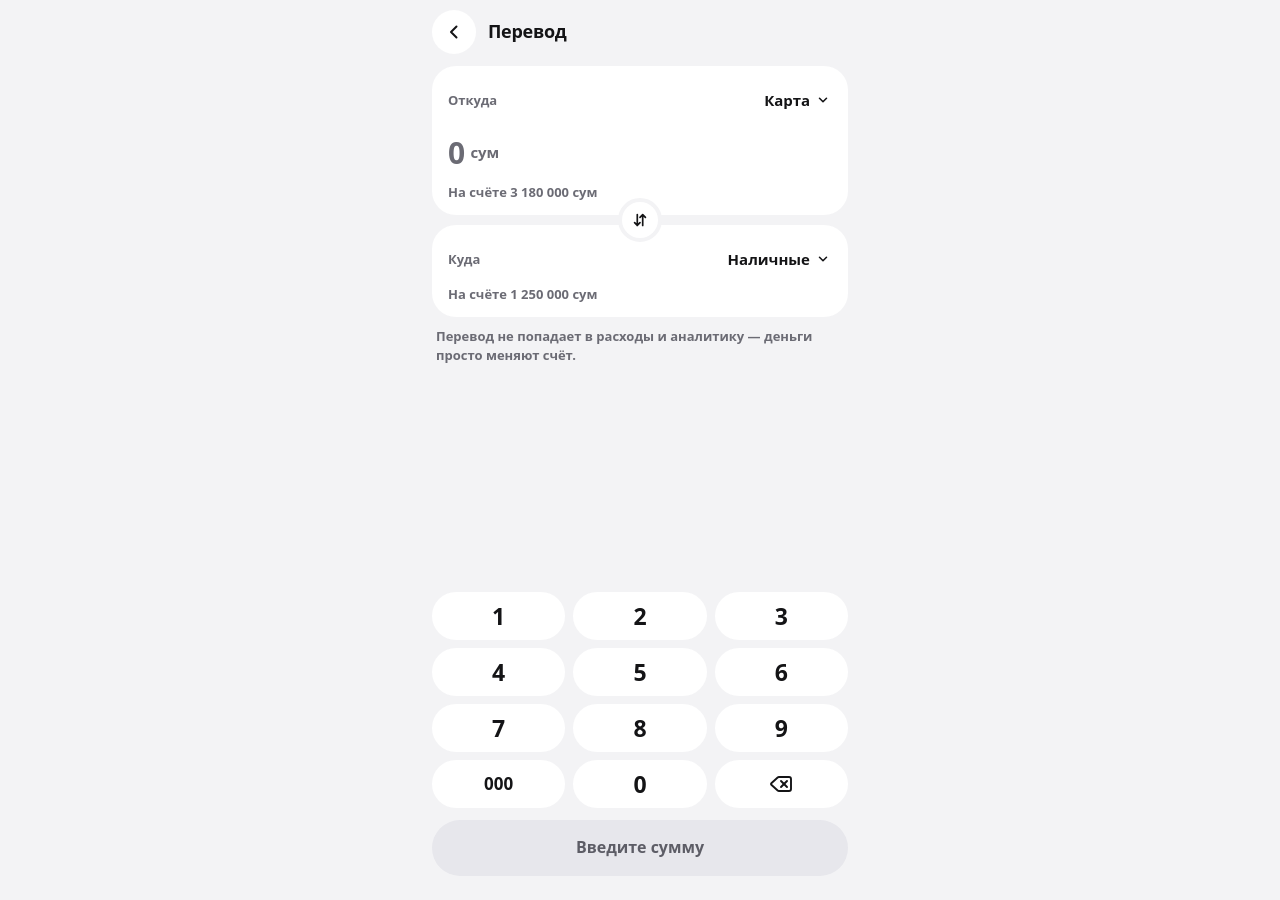
Transfer form › an exchange to dollars shows the empty «Получаю» as «0,00» (FT-141)
The image size is (1280, 900).
Click the button "Наличные". click: (779, 259)
box: [718,237,840,281]
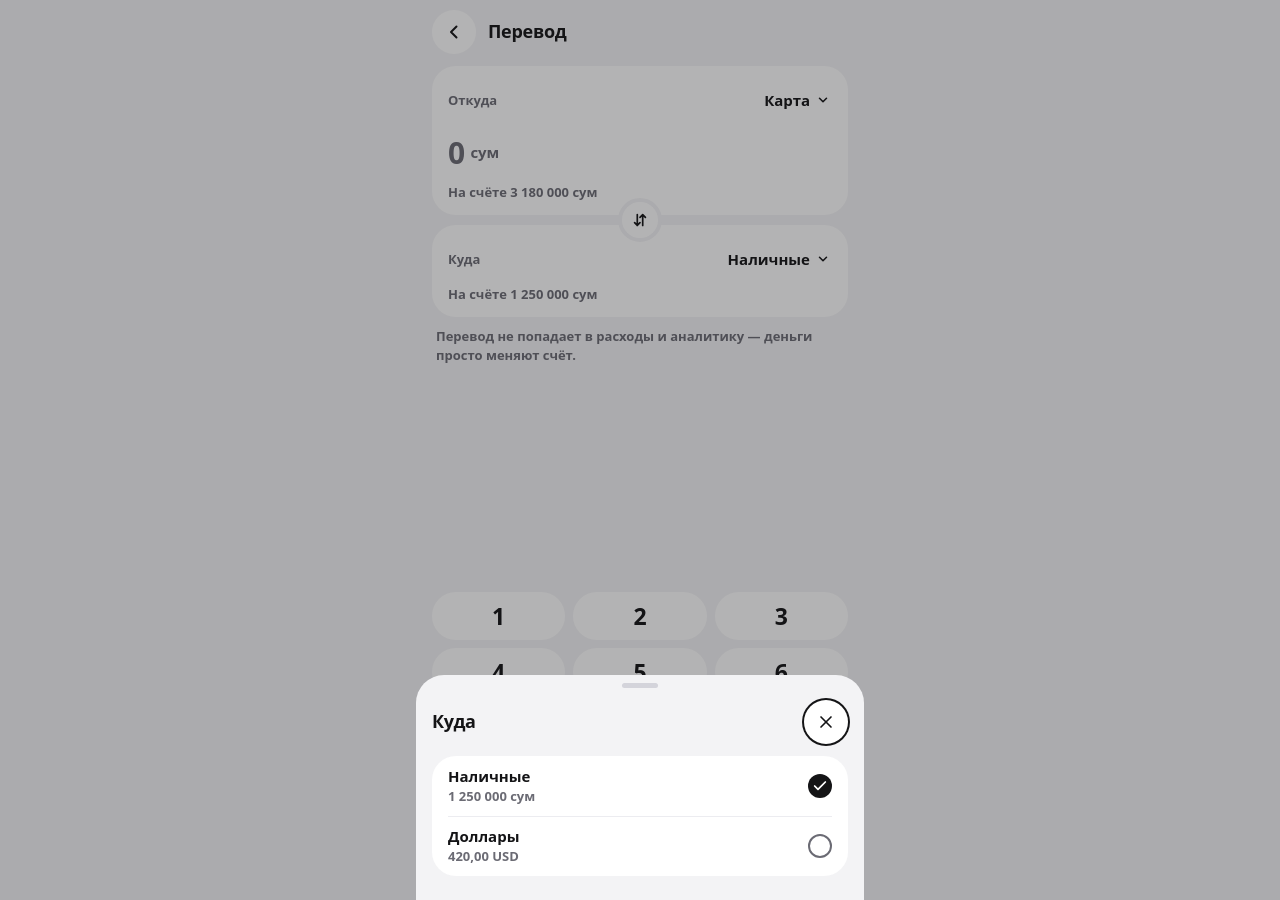
Click the radio button labelled "Доллары 420,00 USD". click: (484, 836)
box: [432,816,848,876]
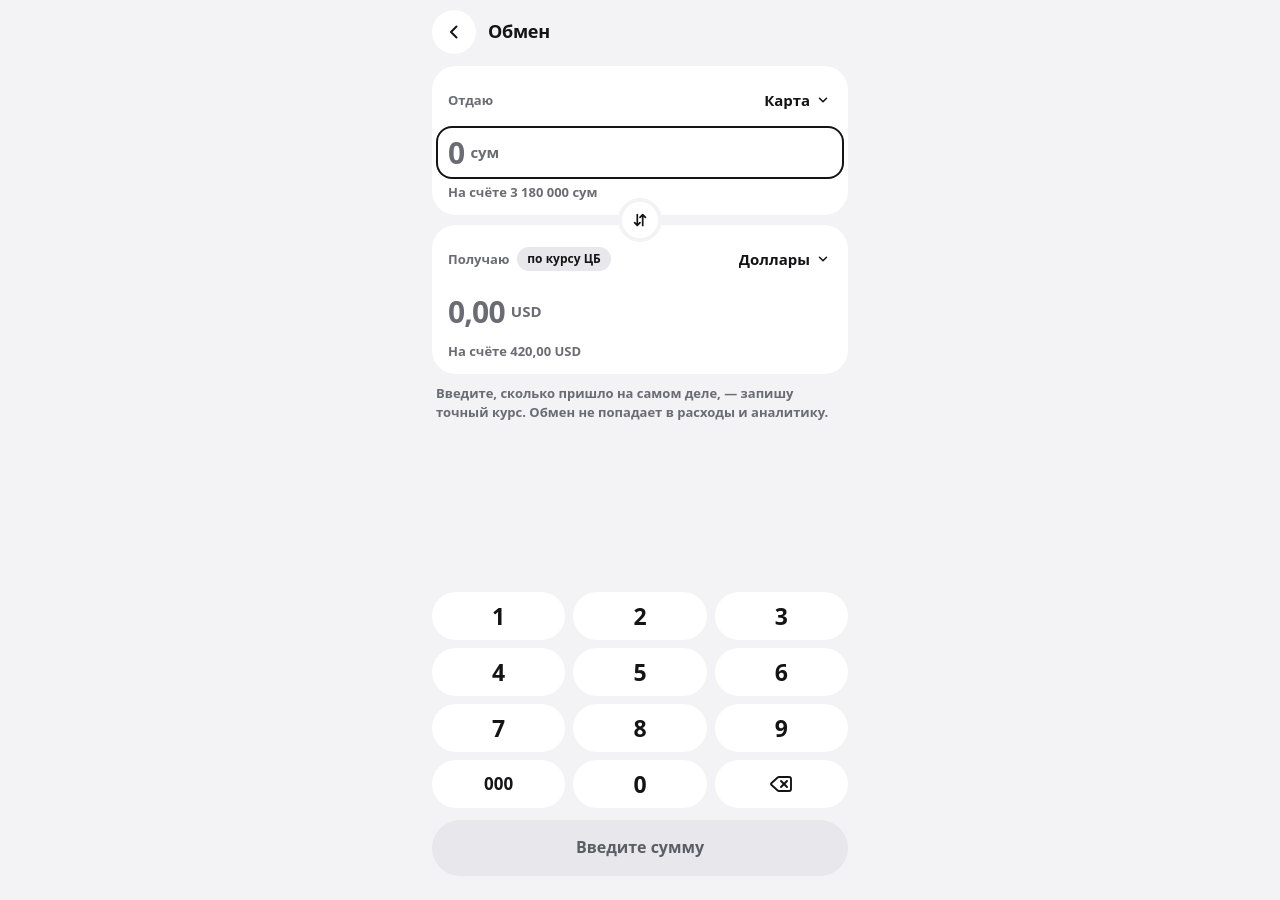
Result: the button "0,00 USD" is shown at [436,285,844,338]
